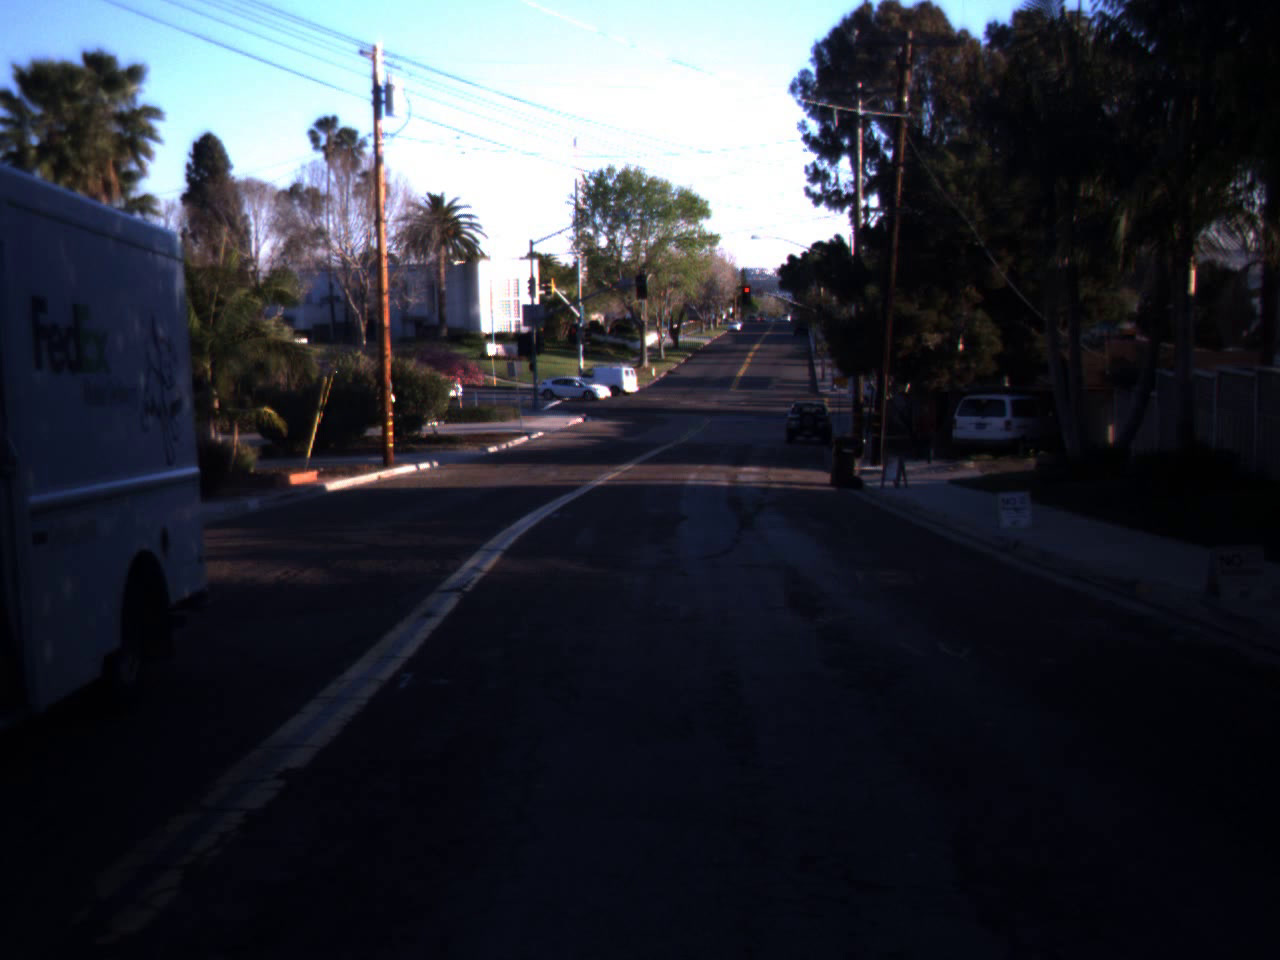stop: (740, 286, 752, 304)
